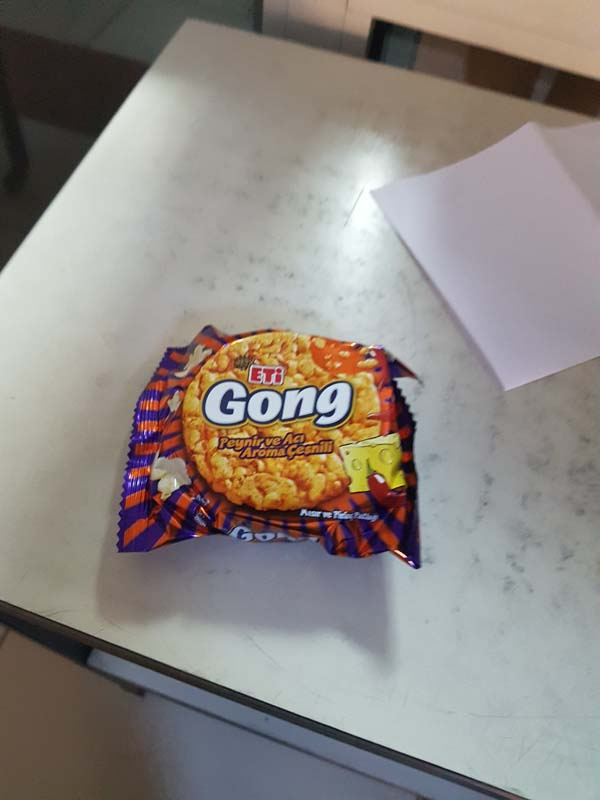etigong: (108, 319, 433, 587)
